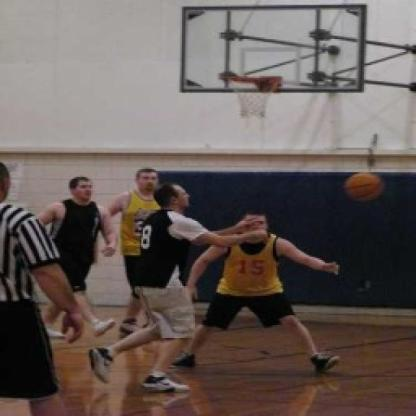basketball: (344, 171, 383, 202)
